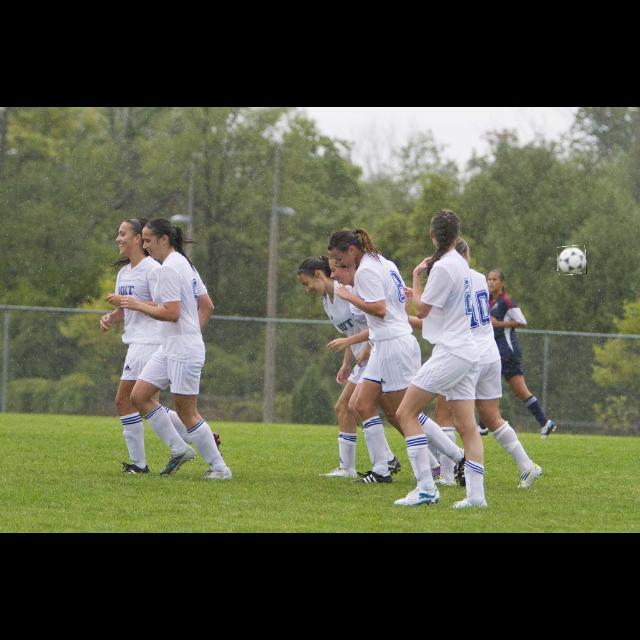Football: (557, 246, 587, 274)
